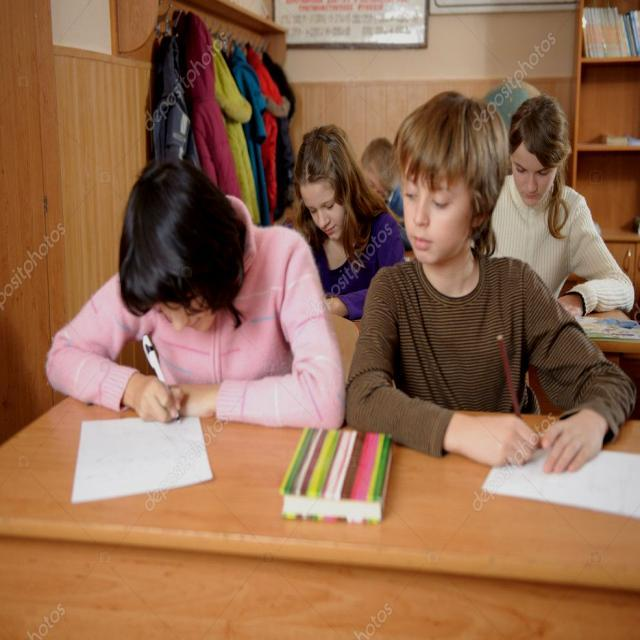cheating: (356, 77, 640, 470)
good: (42, 159, 352, 526), (493, 80, 640, 321)
